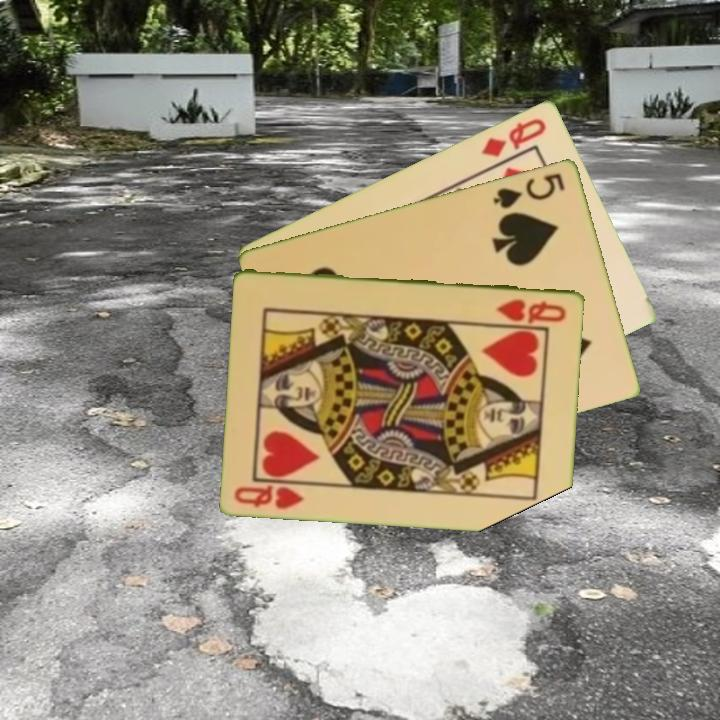5s: (489, 169, 568, 212)
Qd: (477, 114, 549, 159)
Qh: (231, 480, 307, 511), (493, 295, 569, 325)
